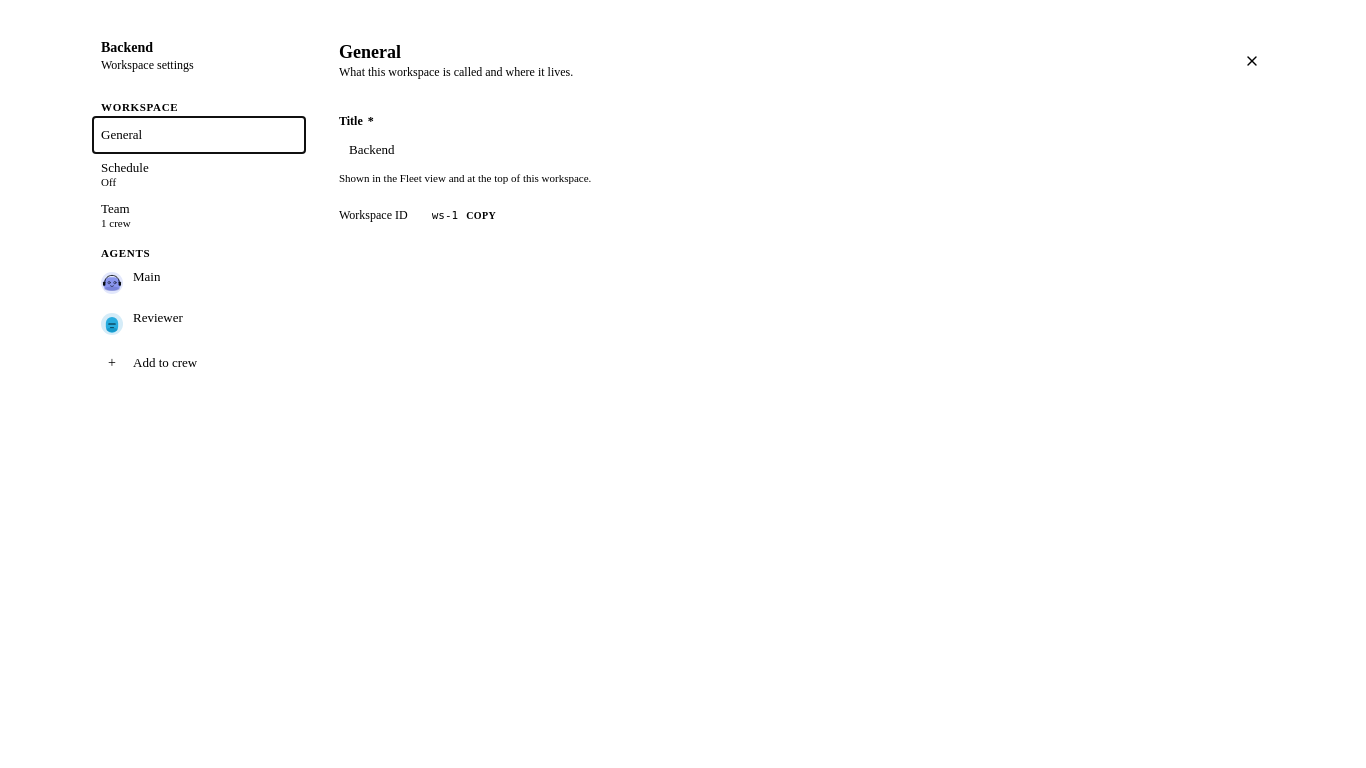
Test case: WorkspaceSettingsModal navigation and per-page save › keeps the page open and shows why when validation fails
Step 1. Clear the field labelled "Title *" → (619, 150), box [339,135,899,165]
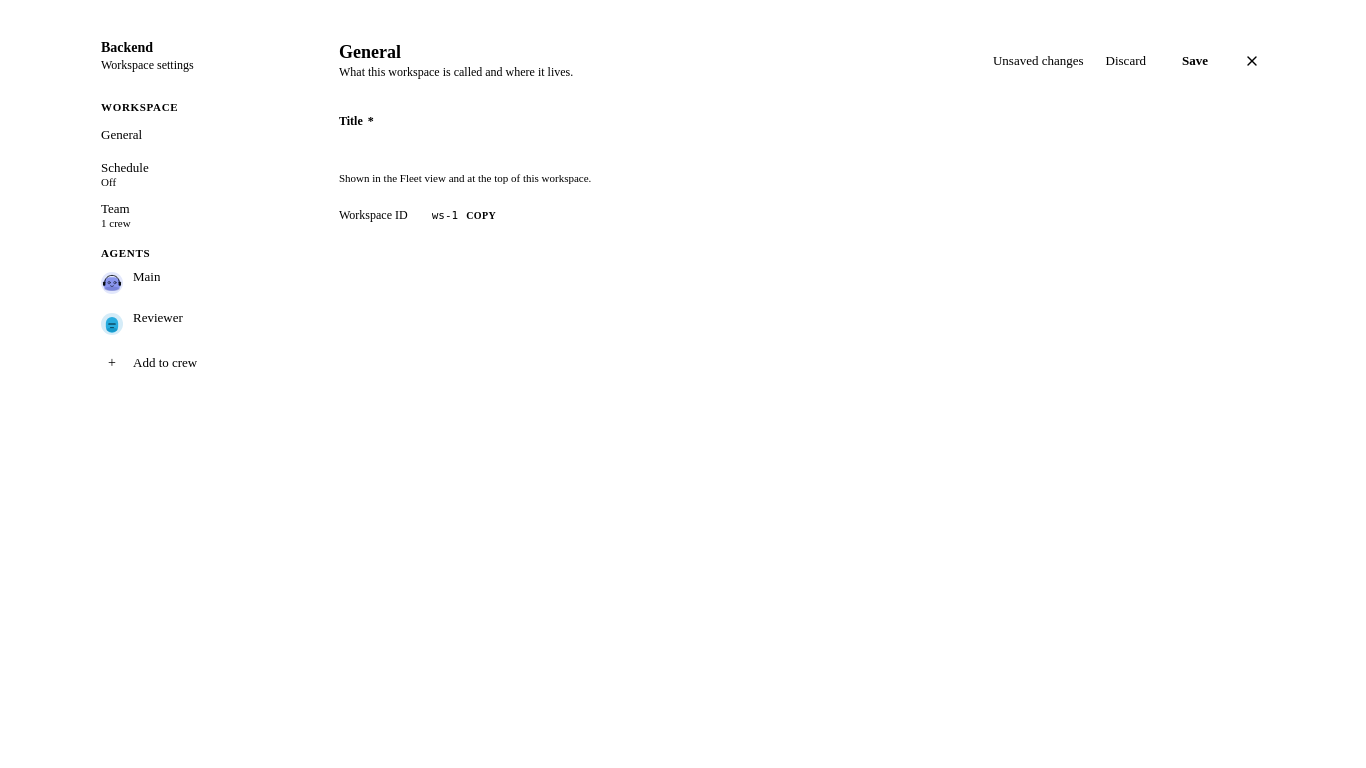
Step 2. Click the button "Save" → (1195, 61), box [1168,47,1222,75]
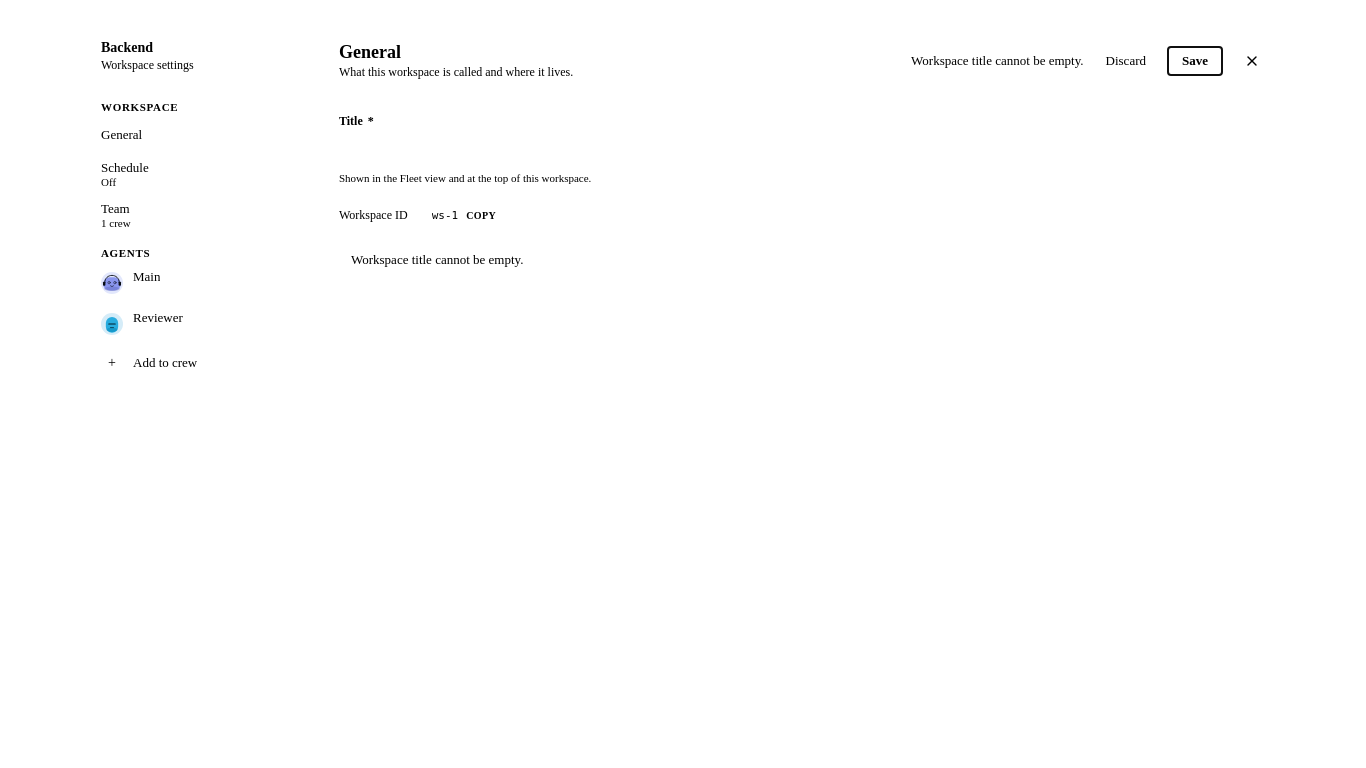
Expected: the 1st message "Workspace title cannot be empty." is shown, [911,53,1084,69]
